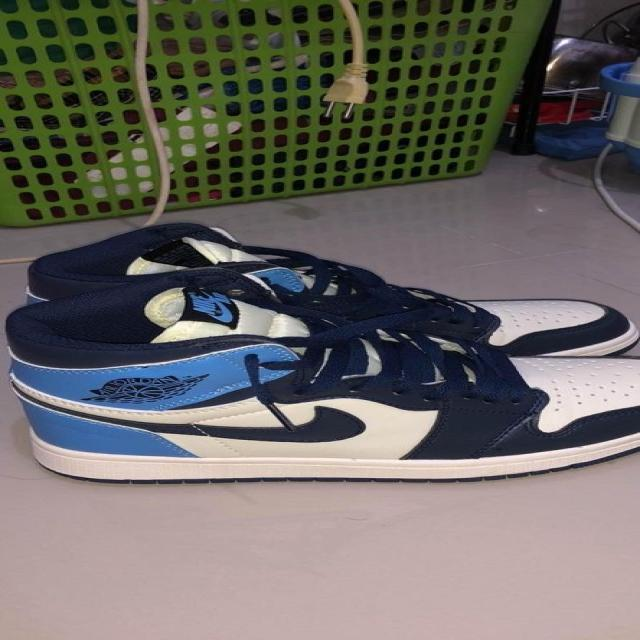nike fake jordan 1: (8, 266, 640, 487), (0, 222, 638, 361)
